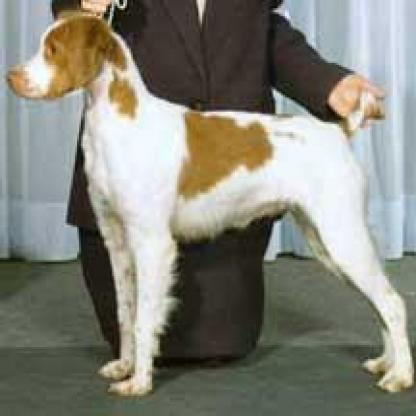Brittany_spaniel: (4, 10, 412, 398)
